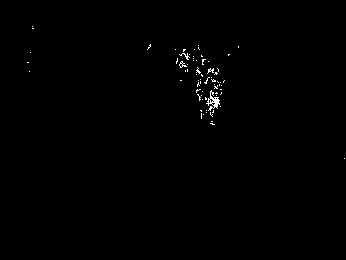person: (196, 64, 222, 122)
